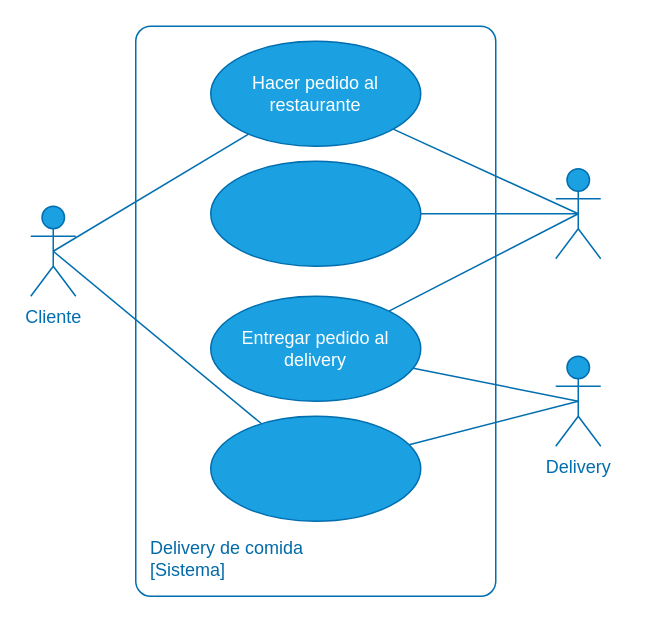
The diagram is 653 pixels wide and 623 high, and some of its shapes have lost their labels. Here are the shapes that lost their labels. From the top down, the centre of each, then its label:
At (x=315, y=213): "Preparar pedido".
At (x=577, y=213): "Restaurante".
At (x=315, y=468): "Llevar pedido al cliente".
